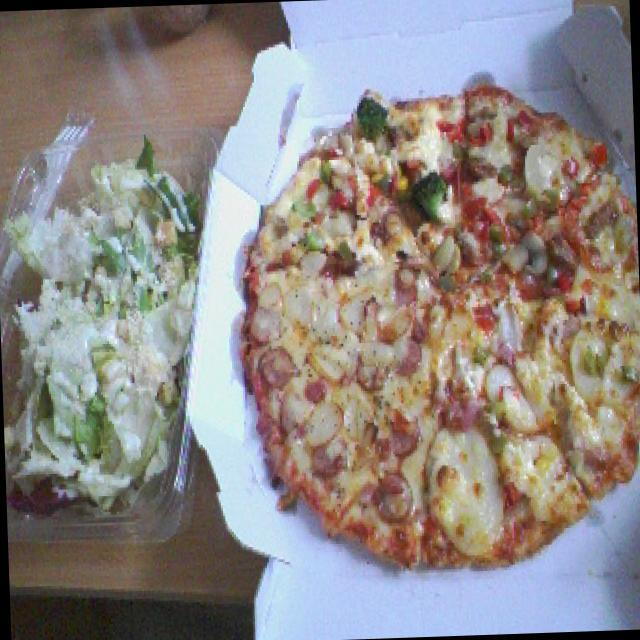Pizza: (217, 72, 640, 580)
